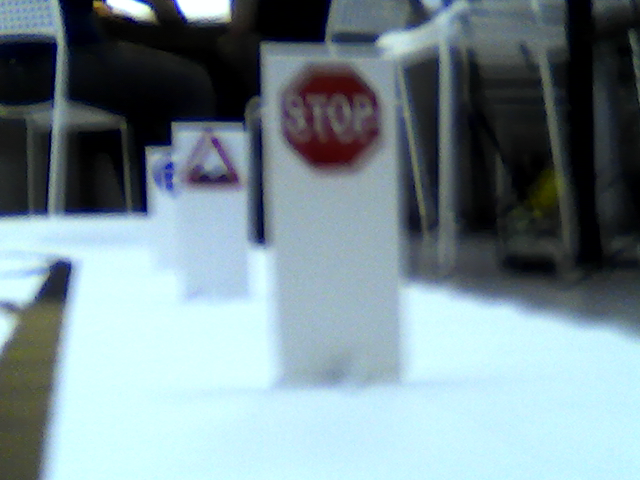Nerov: (181, 130, 238, 186)
Stop: (278, 64, 382, 165)
